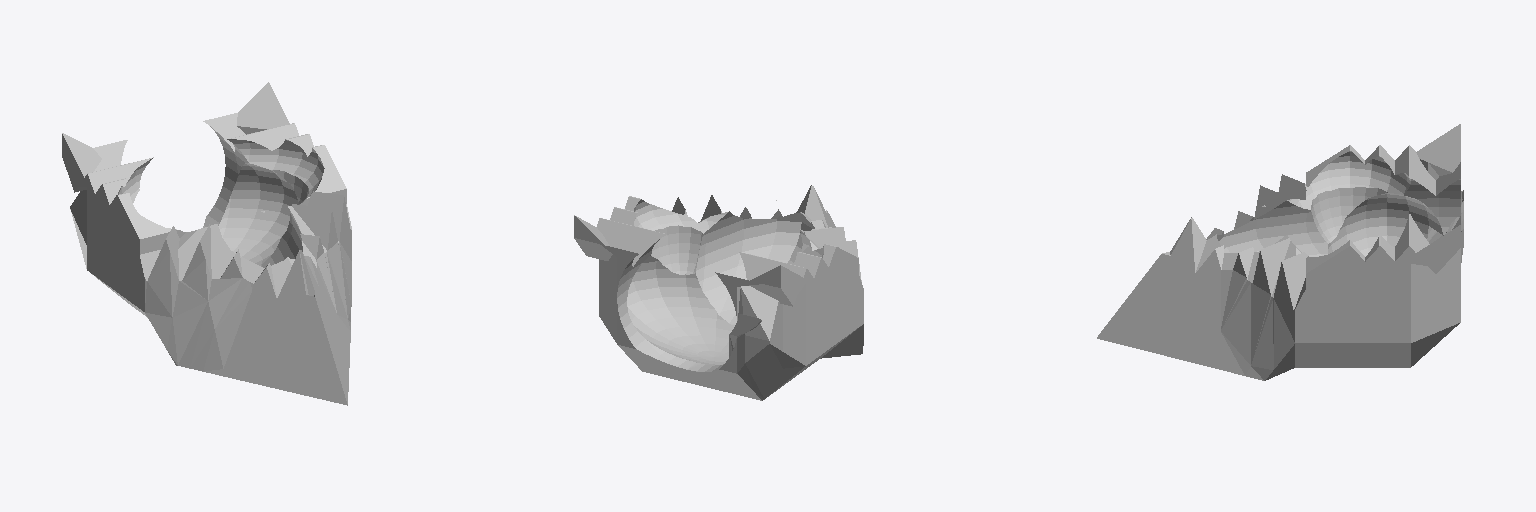
File: e_head2.obj
3 renders of one model, left to right at view 1: azimuth 30°, elevation 25°; view 2: azimuth 150°, elevation 25°; view 3: azimuth 270°, elevation 25°, orthographic.
Bounding box in the file's own units: 1.64 × 1.24 × 2.51.